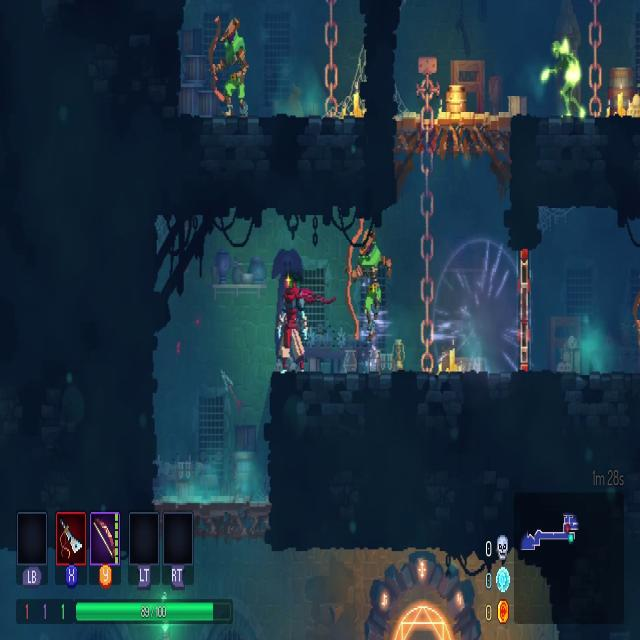agents: (277, 278, 311, 378)
door_regular: (515, 245, 534, 372)
enemy_archer: (344, 225, 386, 376), (210, 14, 246, 112)
enemy_green_puncher: (545, 38, 582, 117)
wood_floor: (393, 106, 512, 168), (151, 494, 273, 548)
